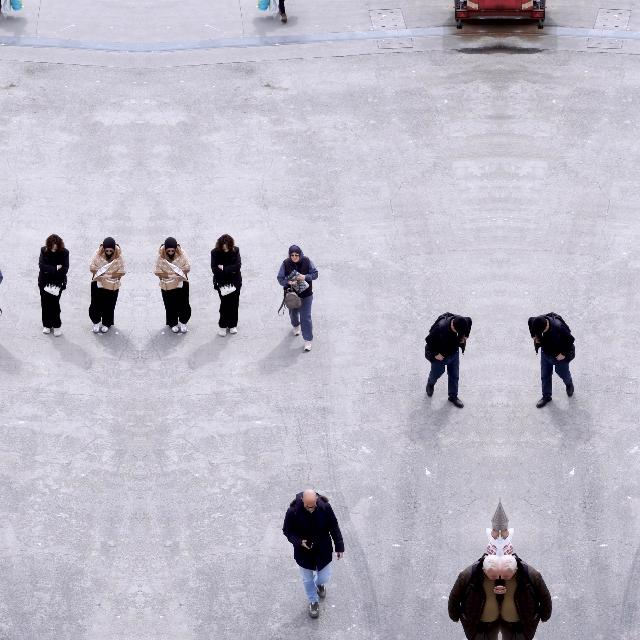person: (282, 489, 344, 619), (424, 312, 472, 408), (528, 312, 576, 408), (277, 244, 319, 352), (448, 553, 500, 640), (500, 553, 552, 640), (154, 236, 192, 334), (88, 236, 126, 334), (210, 234, 242, 336), (38, 234, 70, 336), (490, 500, 500, 540), (500, 500, 510, 540), (0, 244, 3, 352), (278, 1, 288, 23), (0, 0, 1, 23)
